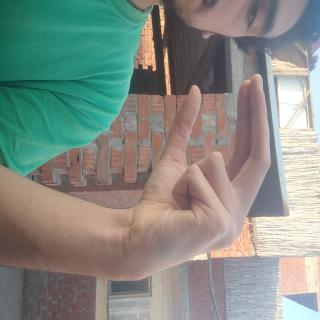DHELL: (55, 62, 211, 263)
